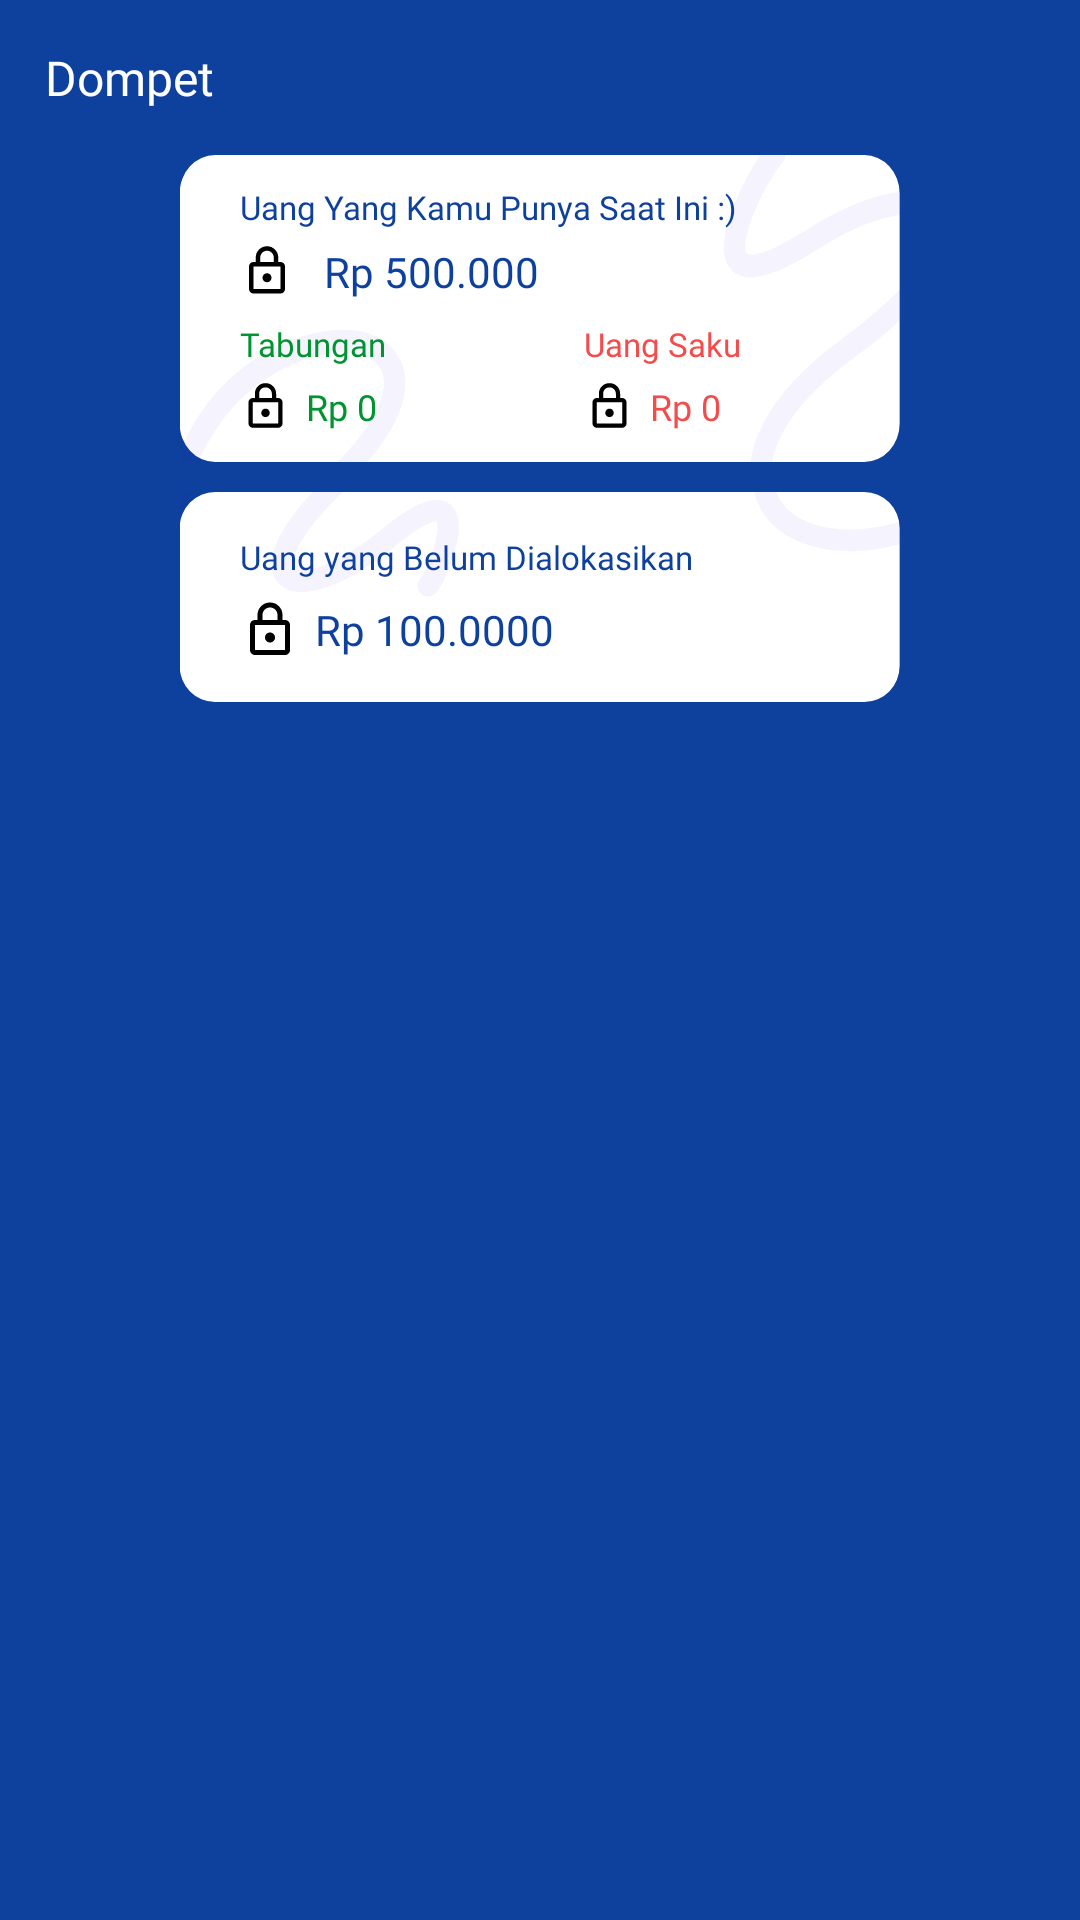

Icons on this 1080px×1920px Android screen, each with its box as (x1, y1, x2, y2):
lock: (249, 246, 285, 294), (248, 383, 283, 428), (592, 383, 627, 428), (250, 602, 290, 655)
